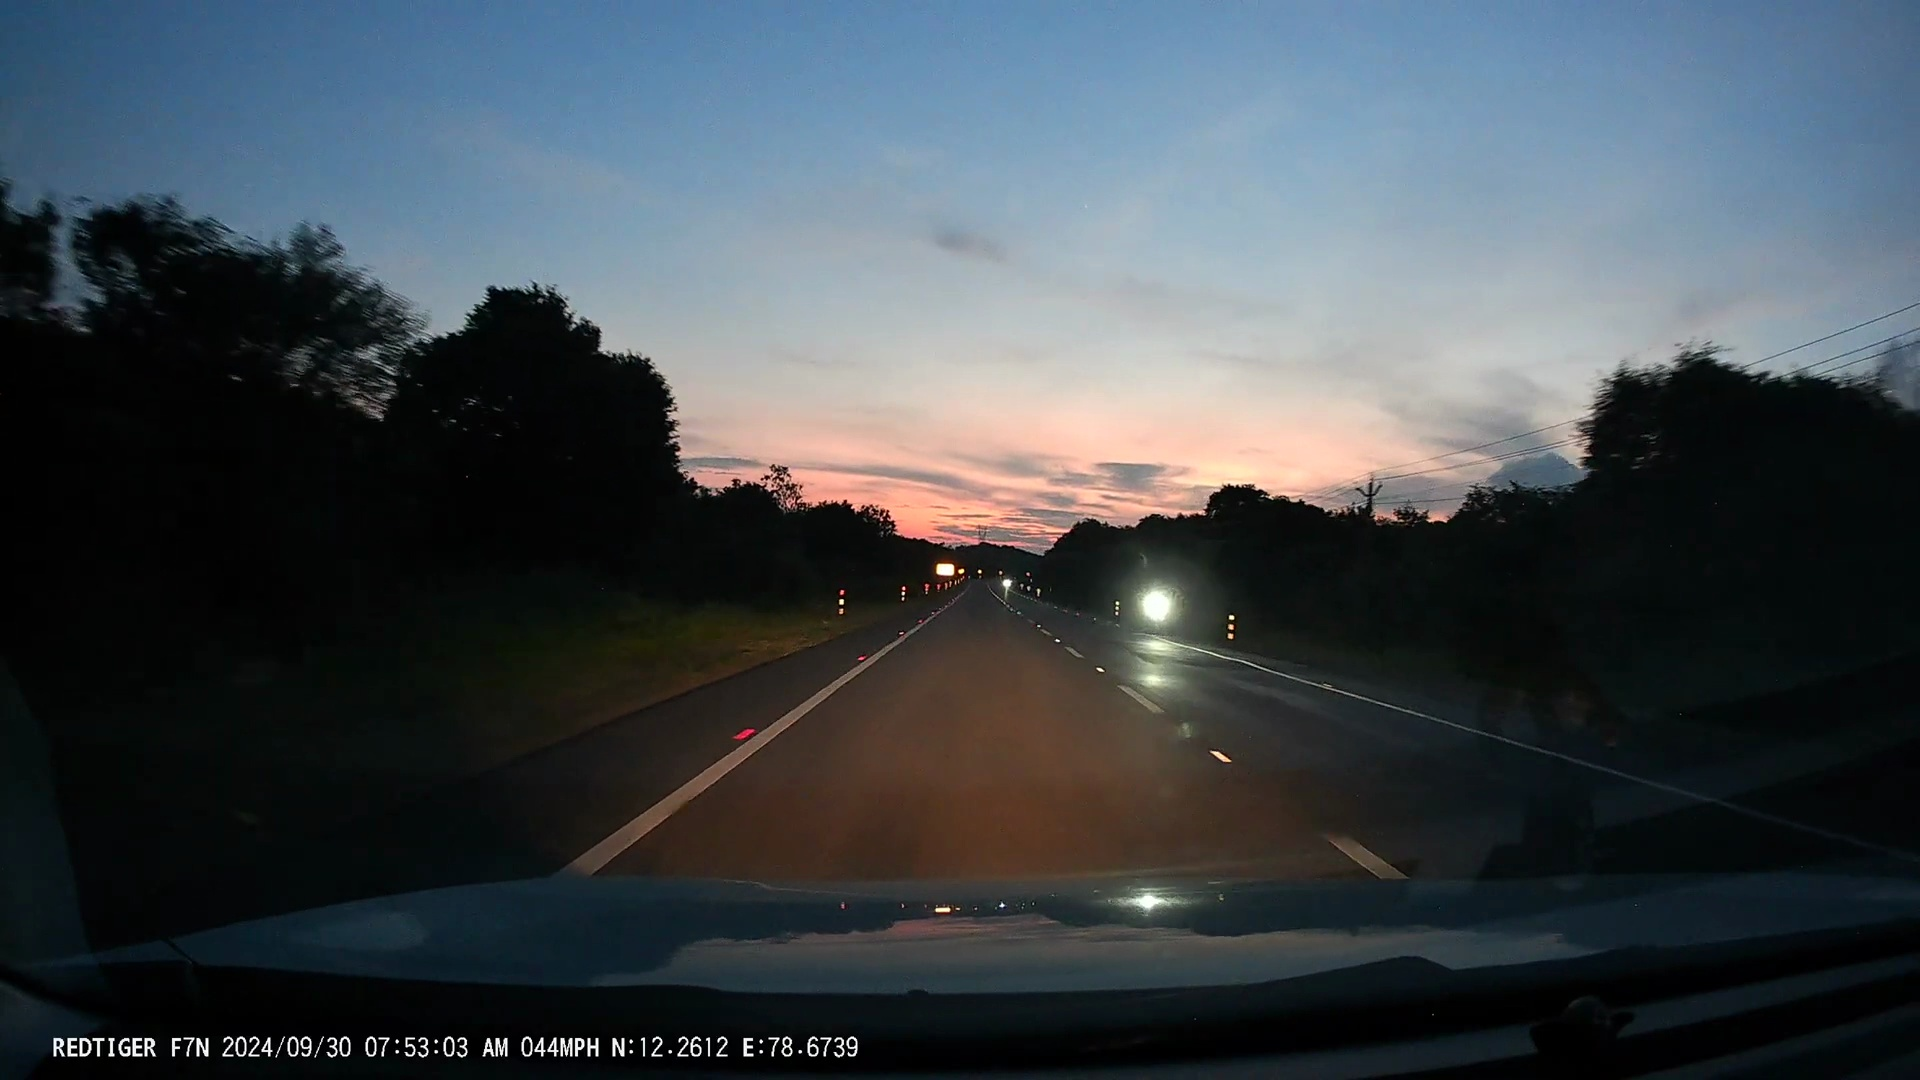headlight: (1141, 587, 1174, 618), (1004, 579, 1015, 588)
two wheeler: (1139, 560, 1168, 640), (1001, 568, 1010, 599)
